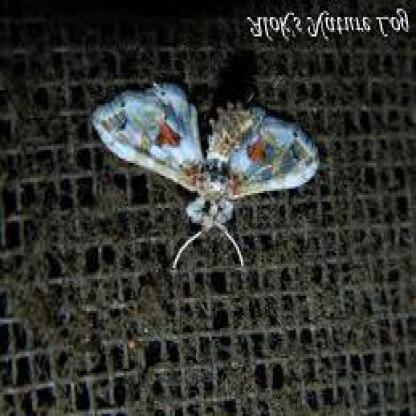leucinodes: (92, 85, 320, 231)
